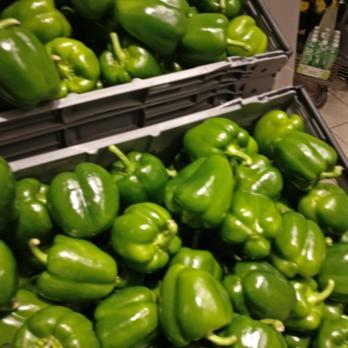Capsicum: (1, 160, 348, 348), (2, 1, 266, 65), (182, 113, 338, 176)
